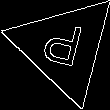P_S: (39, 18, 89, 76)
